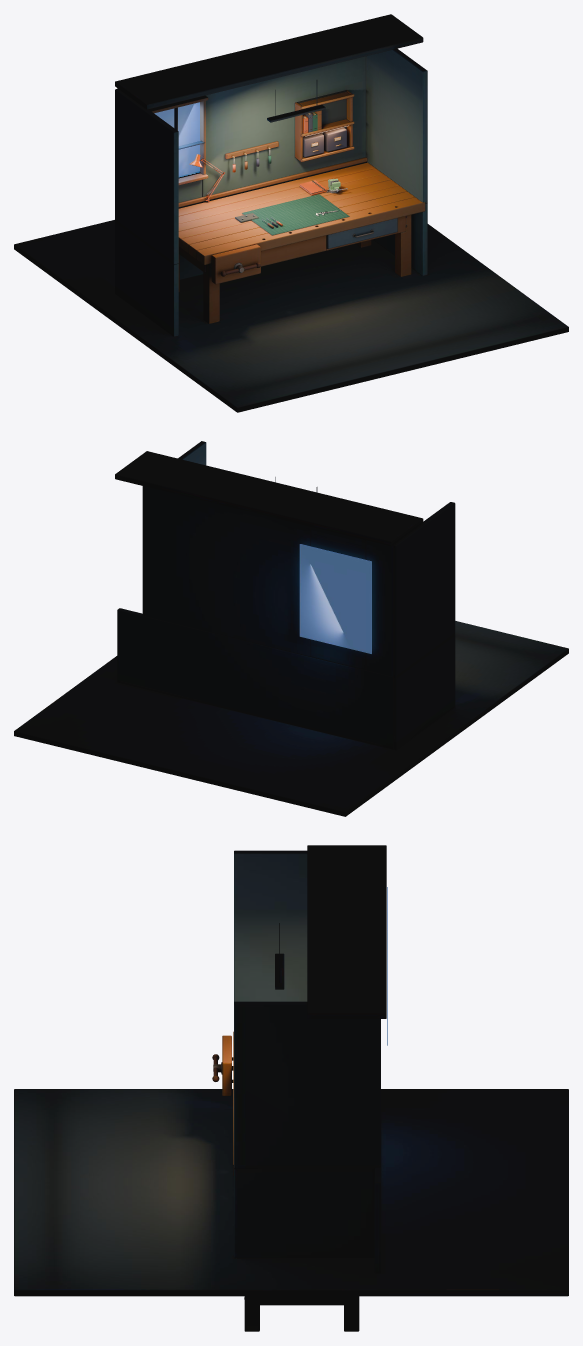
The model's file is workshop.glb.
The picture shows the model from 3 angles, top to bottom: view 1: azimuth 30°, elevation 25°; view 2: azimuth 150°, elevation 25°; view 3: azimuth 270°, elevation 25°; orthographic projection. The views are drawn at different scales.
Parts seen in each view (by area): view 1: Workshop room, Workshop bench, Workshop props, Workshop mat; view 2: Workshop room; view 3: Workshop room, Workshop bench.
Part boxes in pixels (x1=…): Workshop room: x1=14, y1=14, x2=568, y2=412; Workshop bench: x1=178, y1=162, x2=425, y2=323; Workshop props: x1=189, y1=80, x2=348, y2=228; Workshop mat: x1=242, y1=194, x2=349, y2=235; Workshop room: x1=14, y1=441, x2=568, y2=816; Workshop room: x1=14, y1=845, x2=568, y2=1296; Workshop bench: x1=212, y1=1031, x2=359, y2=1331.
Size of the model in its own units: 12 by 9.51 by 14.
Materials: 4 (4 with a texture image).
